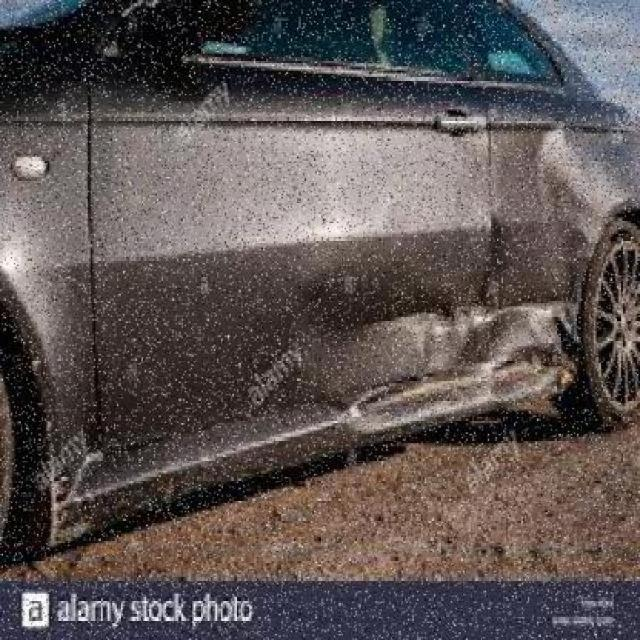RunningBoard-Dent: (345, 363, 569, 437)
doorouter-dent: (96, 77, 492, 387)
quaterpanel-dent: (491, 88, 638, 362)
